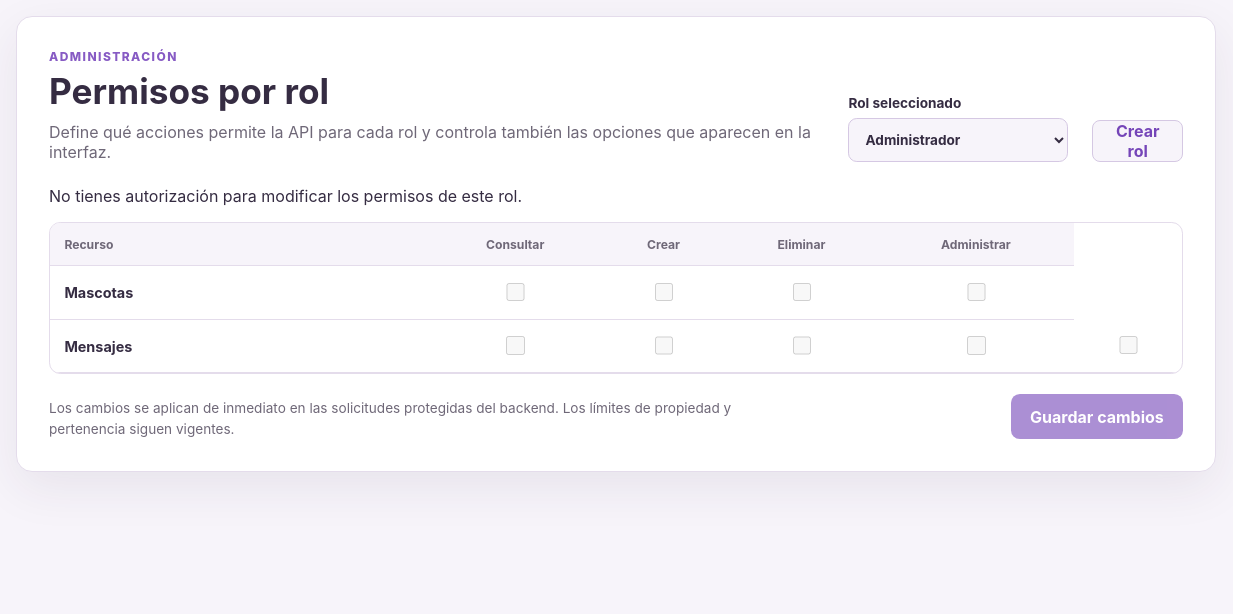
RolePermissionsPanel › creates a custom role and includes it in the permission matrix
Expected: the checkbox named "Mascotas: Consultar" is shown, [506, 283, 525, 301]
Click the button "Crear rol". click: click(1138, 141)
box: [1092, 120, 1183, 162]
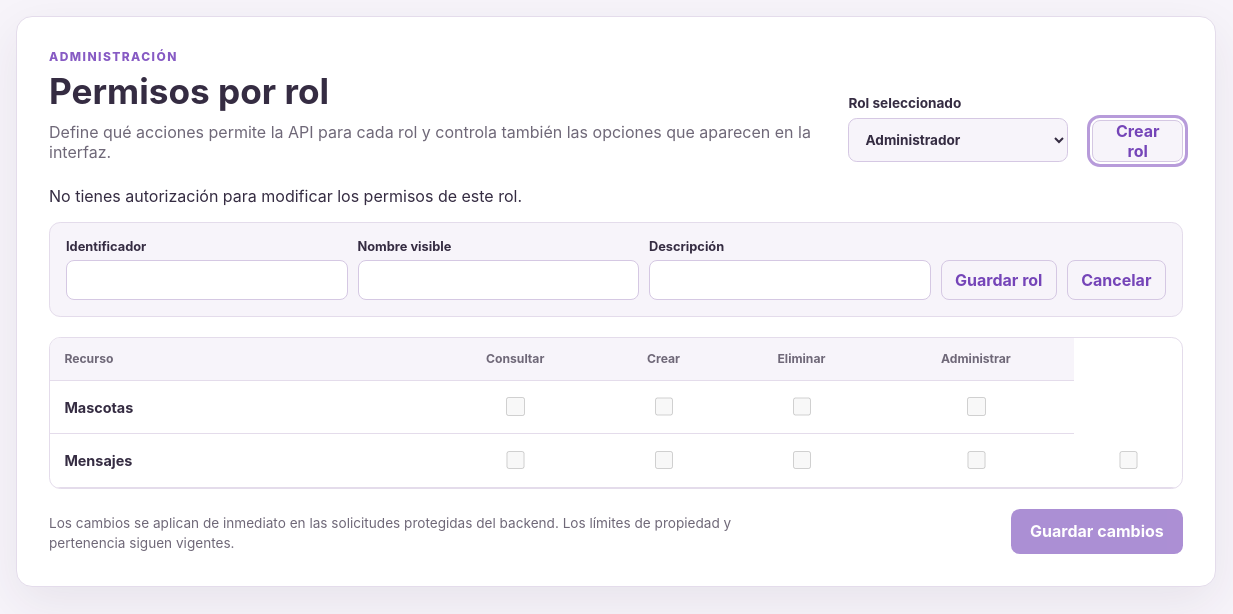
Type "content_moderator" into the field labelled "Identificador". click: (207, 280)
box: [66, 260, 348, 300]
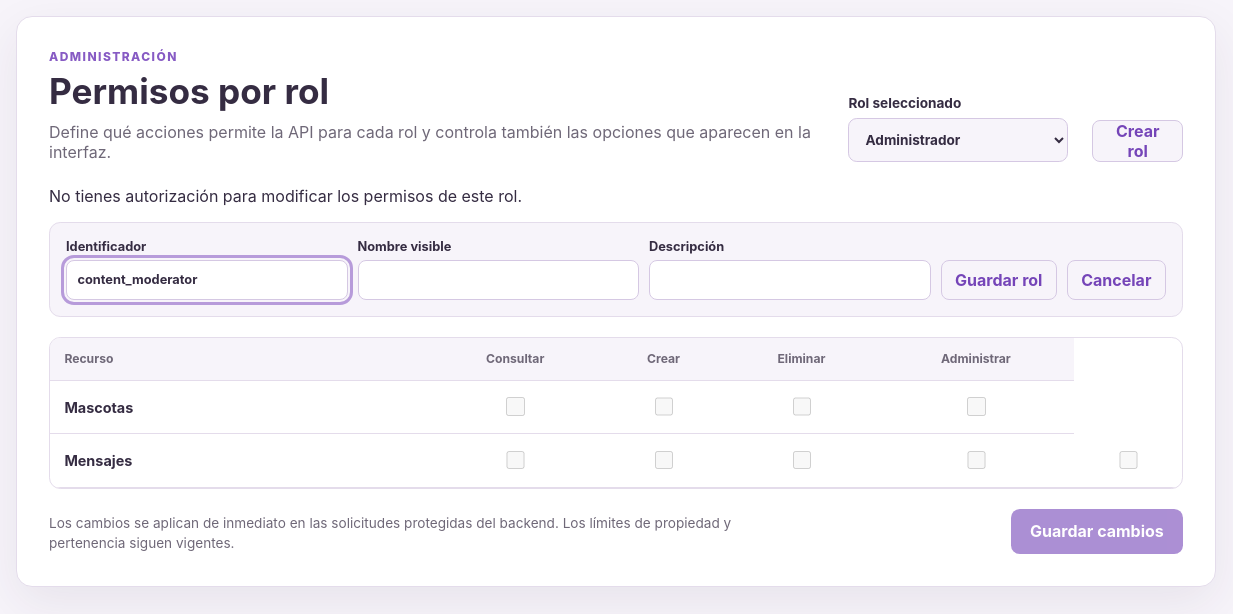
Type "Moderador de contenido" into the field labelled "Nombre visible". click: (498, 280)
box: [358, 260, 639, 300]
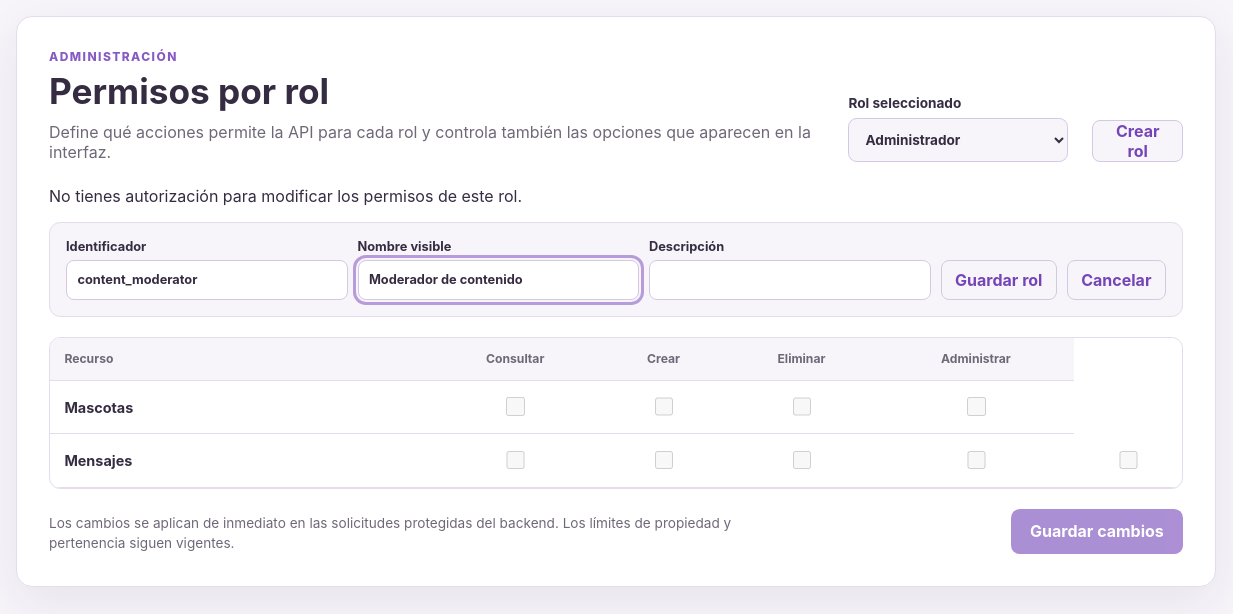
Type "Revisa contenido." into the field labelled "Descripción". click: (790, 280)
box: [649, 260, 931, 300]
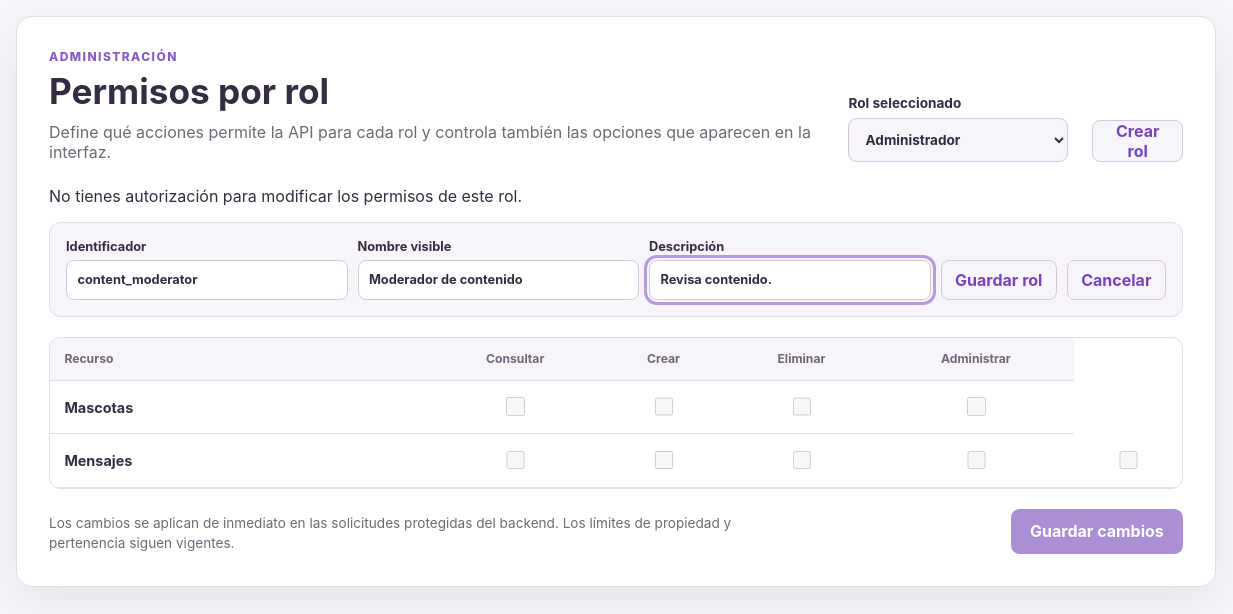
Click the button "Guardar rol". click: click(999, 280)
box: [940, 260, 1057, 300]
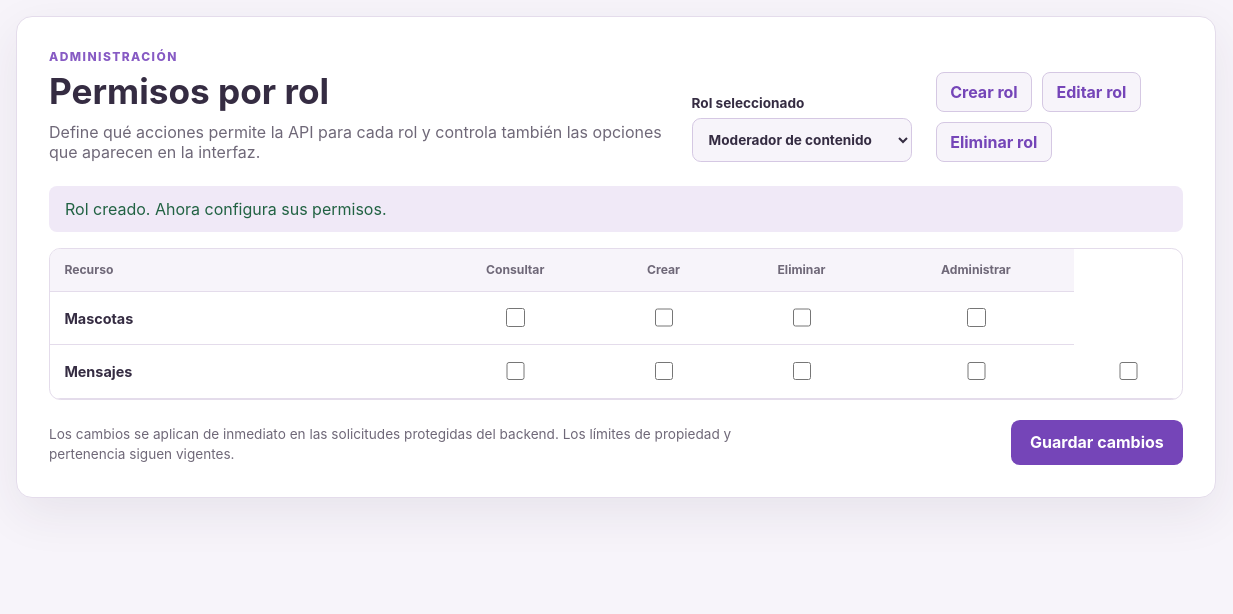
Expected: the checkbox named "Mascotas: Consultar" is shown, [506, 308, 525, 327]
Expected: the dropdown shows "Moderador de contenido", [692, 118, 912, 162]
